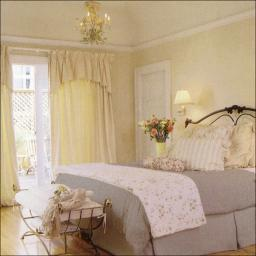Cama: (52, 124, 252, 250)
Puerta: (137, 73, 167, 156)
